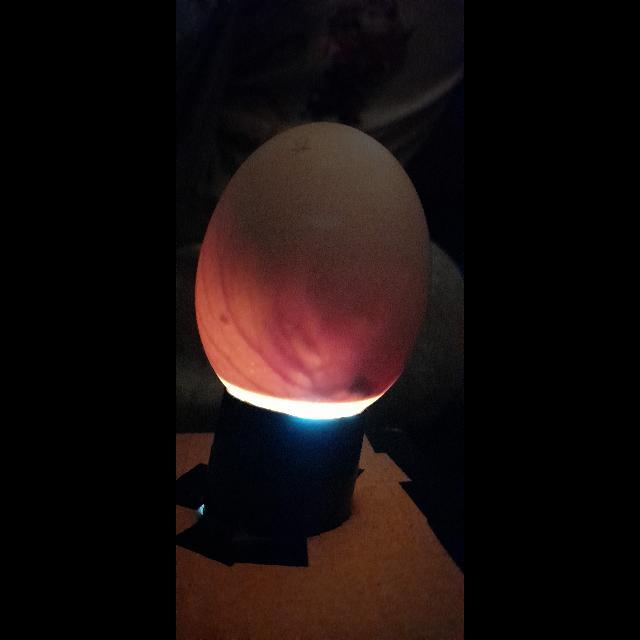Fertile: (193, 115, 435, 422)
